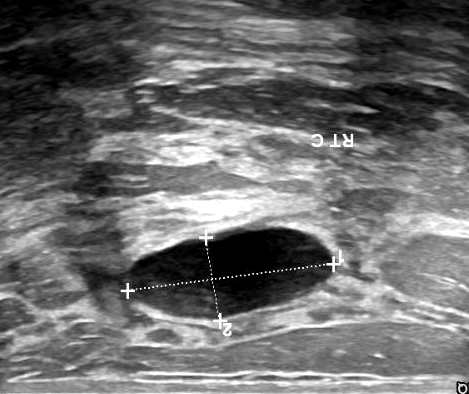Benign: (129, 220, 330, 322)
